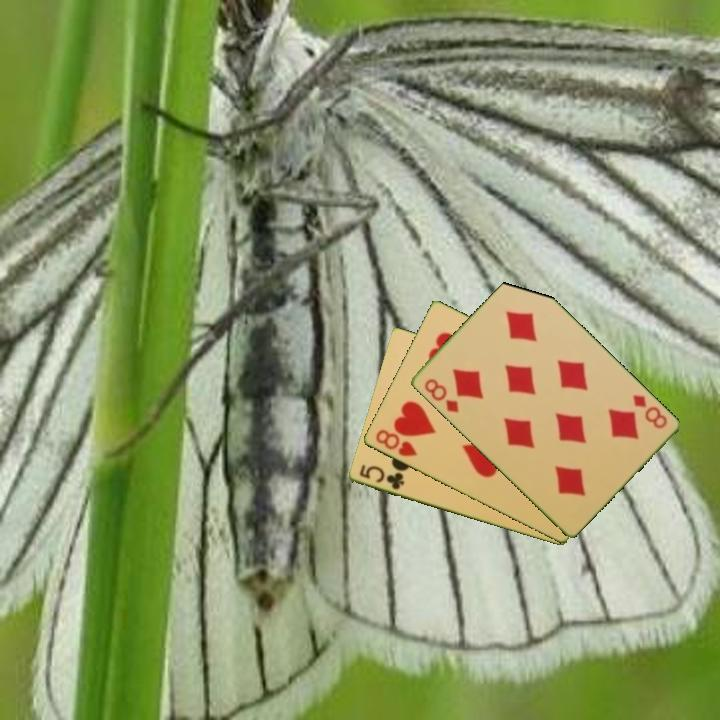5c: (355, 461, 407, 493)
8d: (420, 375, 461, 416), (628, 391, 670, 431)
8h: (372, 426, 420, 460)
